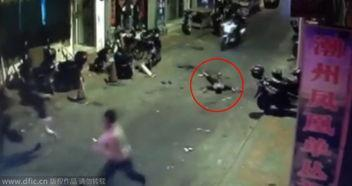Fall-Detected: (194, 62, 239, 96)
